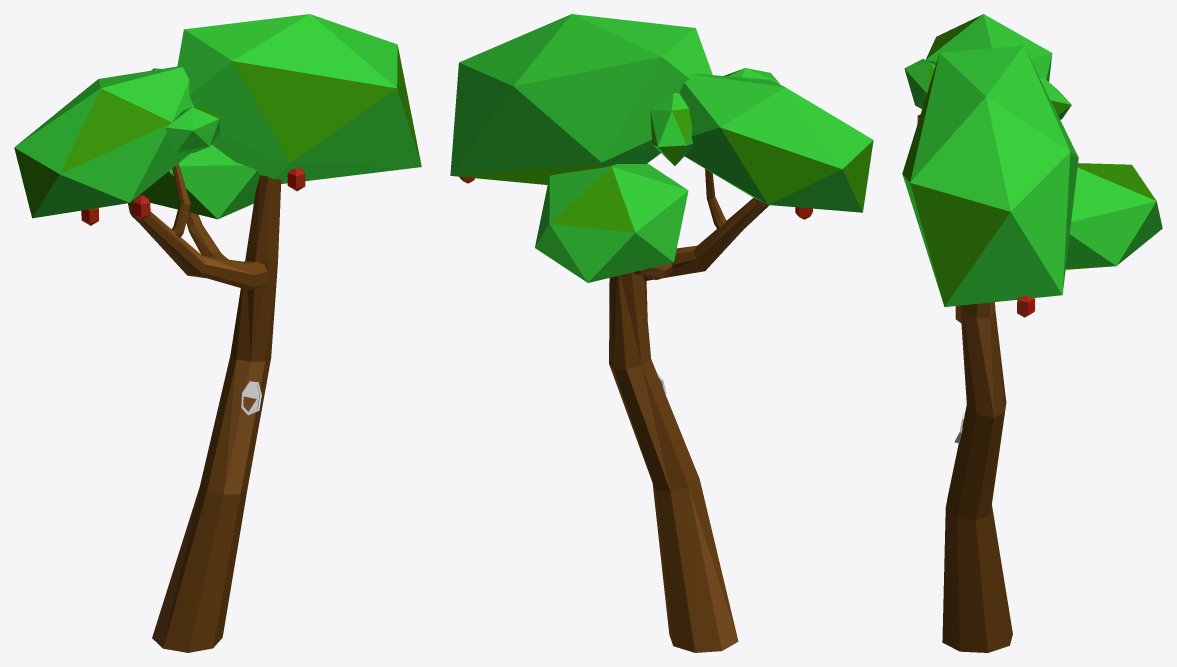
The model's file is LowPolyTree02-Level01fixed.fbx.
3 views of the same model, side by side, from view 1: azimuth 30°, elevation 25°; view 2: azimuth 150°, elevation 25°; view 3: azimuth 270°, elevation 25° (orthographic). The views are drawn at different scales.
Parts seen in each view (by area): view 1: Sphere, Icosphere, Cylinder; view 2: Sphere, Icosphere; view 3: Sphere, Icosphere.
Part boxes in pixels (box(x1,y1,x2,y2)): Sphere: box(14, 14, 421, 652); Icosphere: box(140, 144, 260, 219); Cylinder: box(186, 212, 228, 259); Sphere: box(450, 14, 873, 652); Icosphere: box(535, 163, 688, 282); Sphere: box(902, 14, 1078, 652); Icosphere: box(1065, 163, 1162, 269).
Size of the model in its own units: 411 by 605 by 236.
